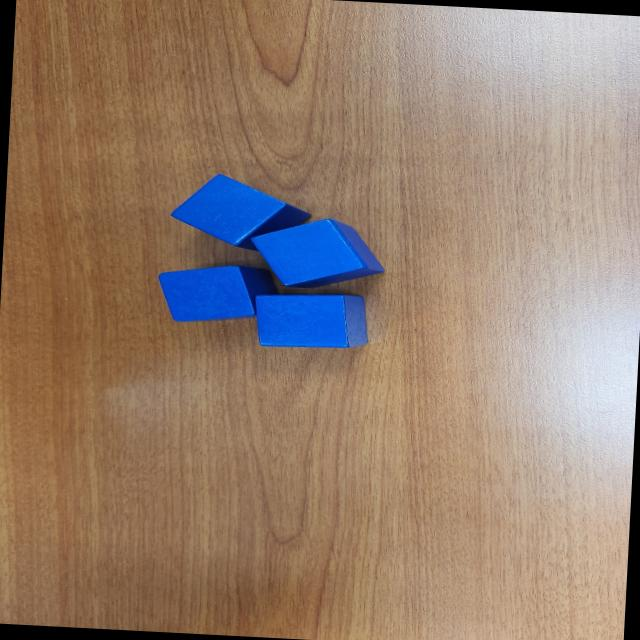blue: (165, 170, 315, 256), (248, 214, 389, 294), (156, 260, 280, 326), (251, 289, 371, 353)
